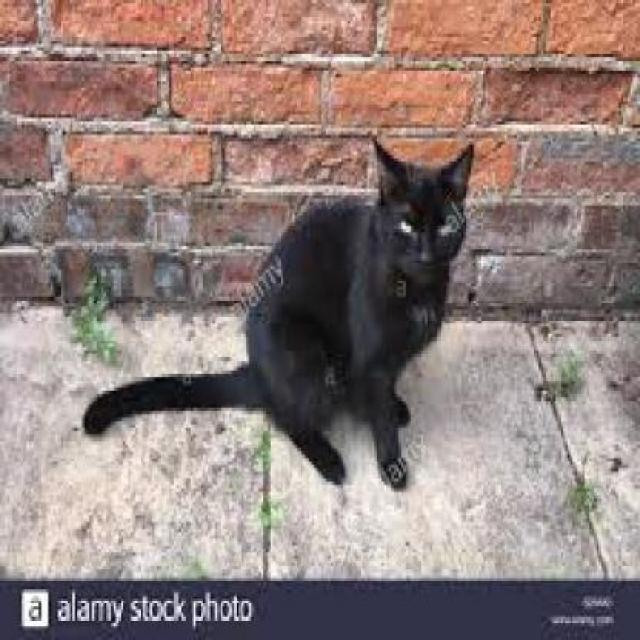animals: (77, 118, 488, 499)
